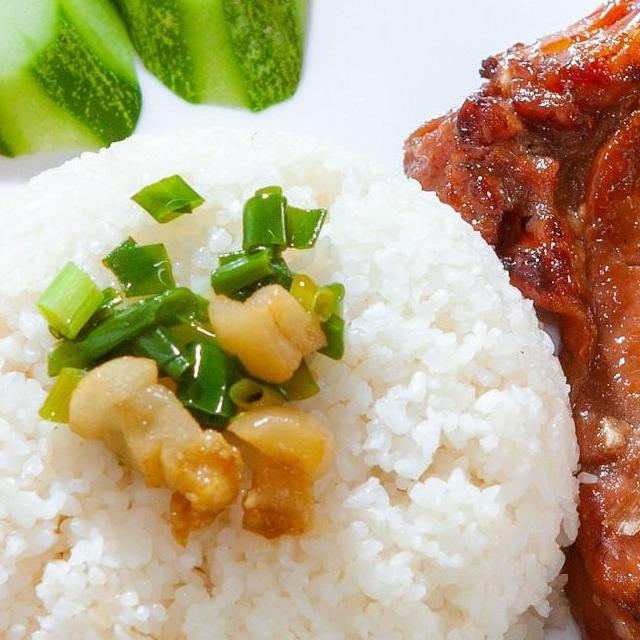com: (0, 109, 591, 640)
com suon: (0, 0, 640, 640)
suon: (391, 0, 640, 640)
